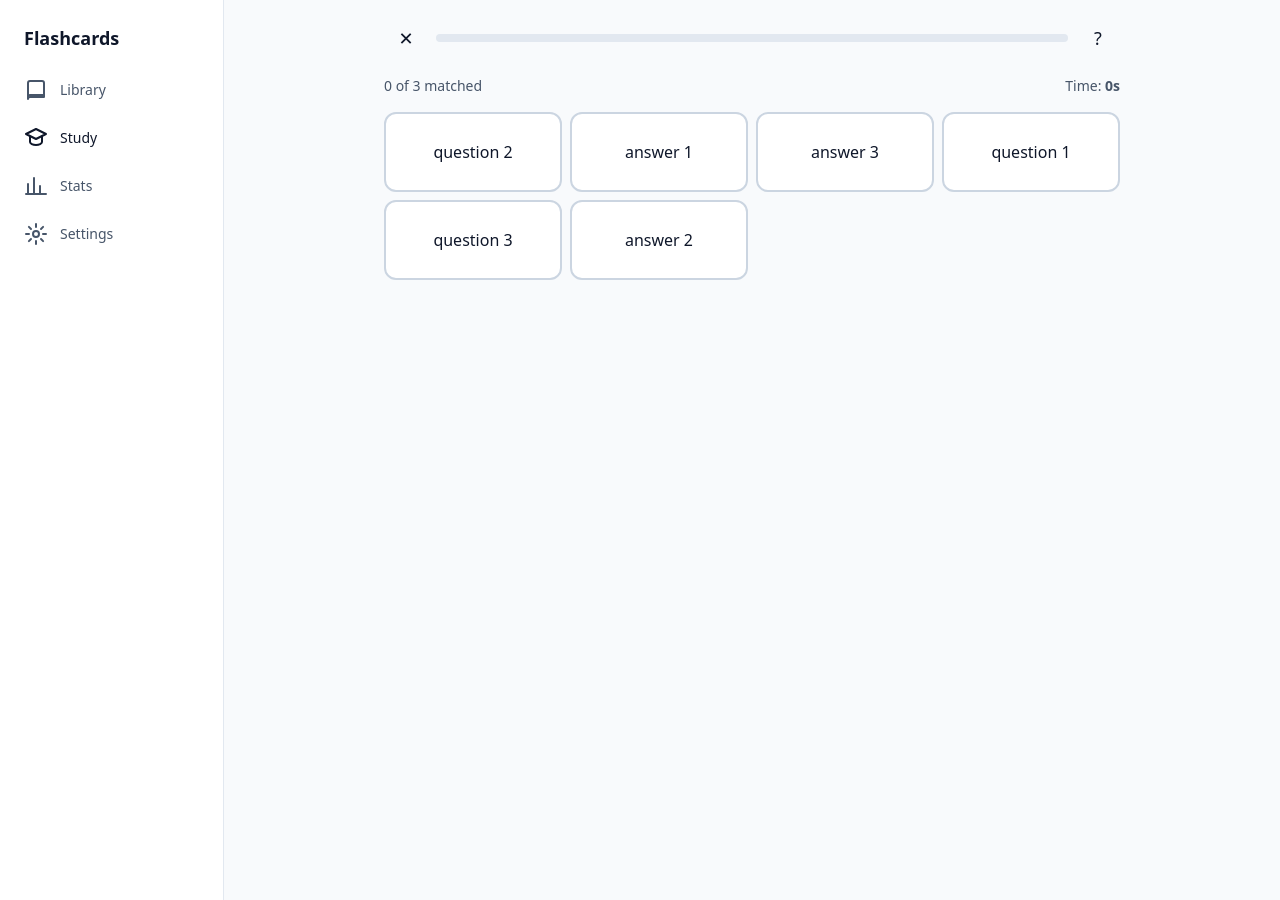
it: match game › only saves a best time when it improves
Expected: the element named "Matching tiles" is shown, [384, 112, 1120, 280]
Click the button "question 1" at [1031, 152], box [942, 112, 1120, 192]
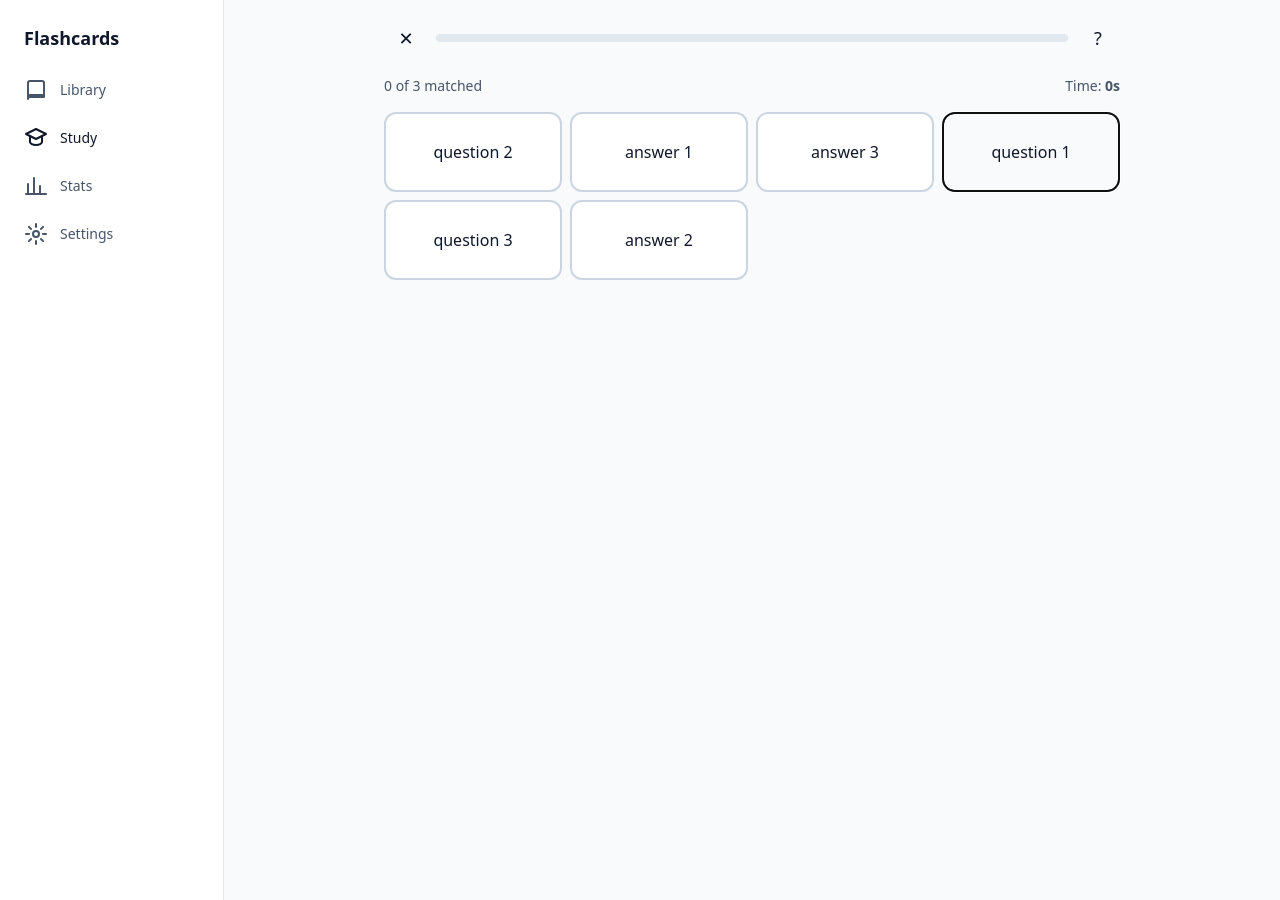
Click the button "answer 1" at [659, 152], box [570, 112, 748, 192]
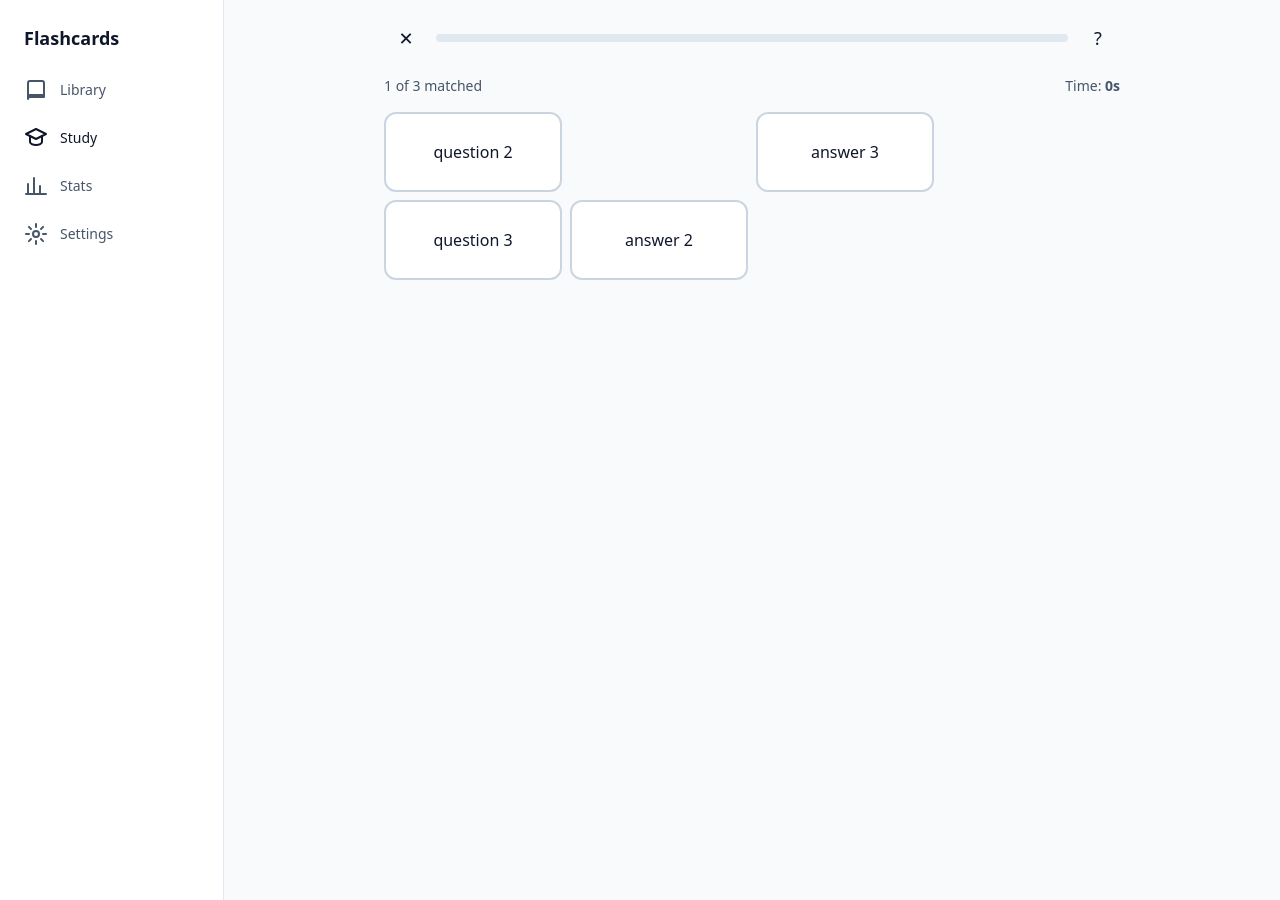
Click the button "question 2" at [473, 152], box [384, 112, 562, 192]
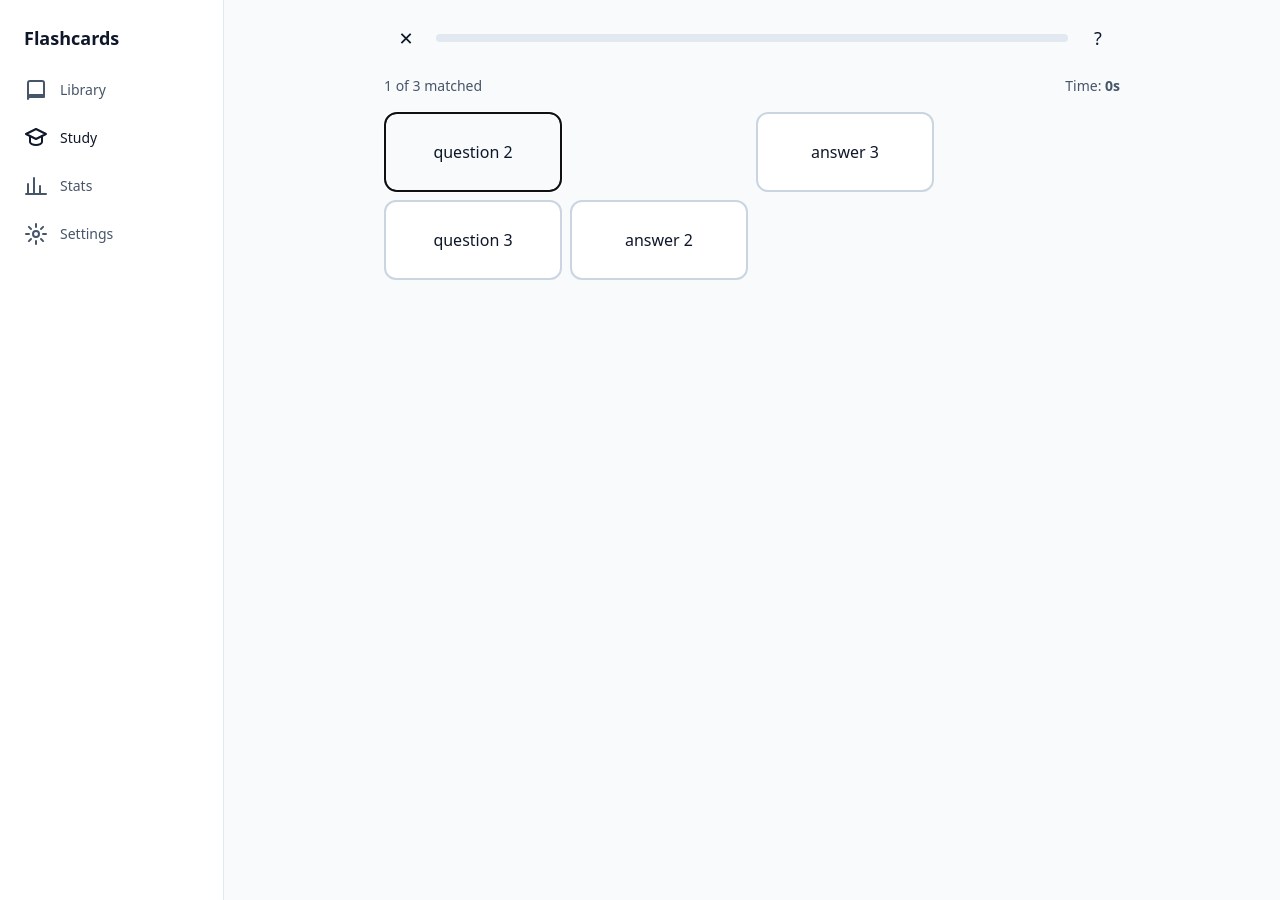
Click the button "answer 2" at [659, 240], box [570, 200, 748, 280]
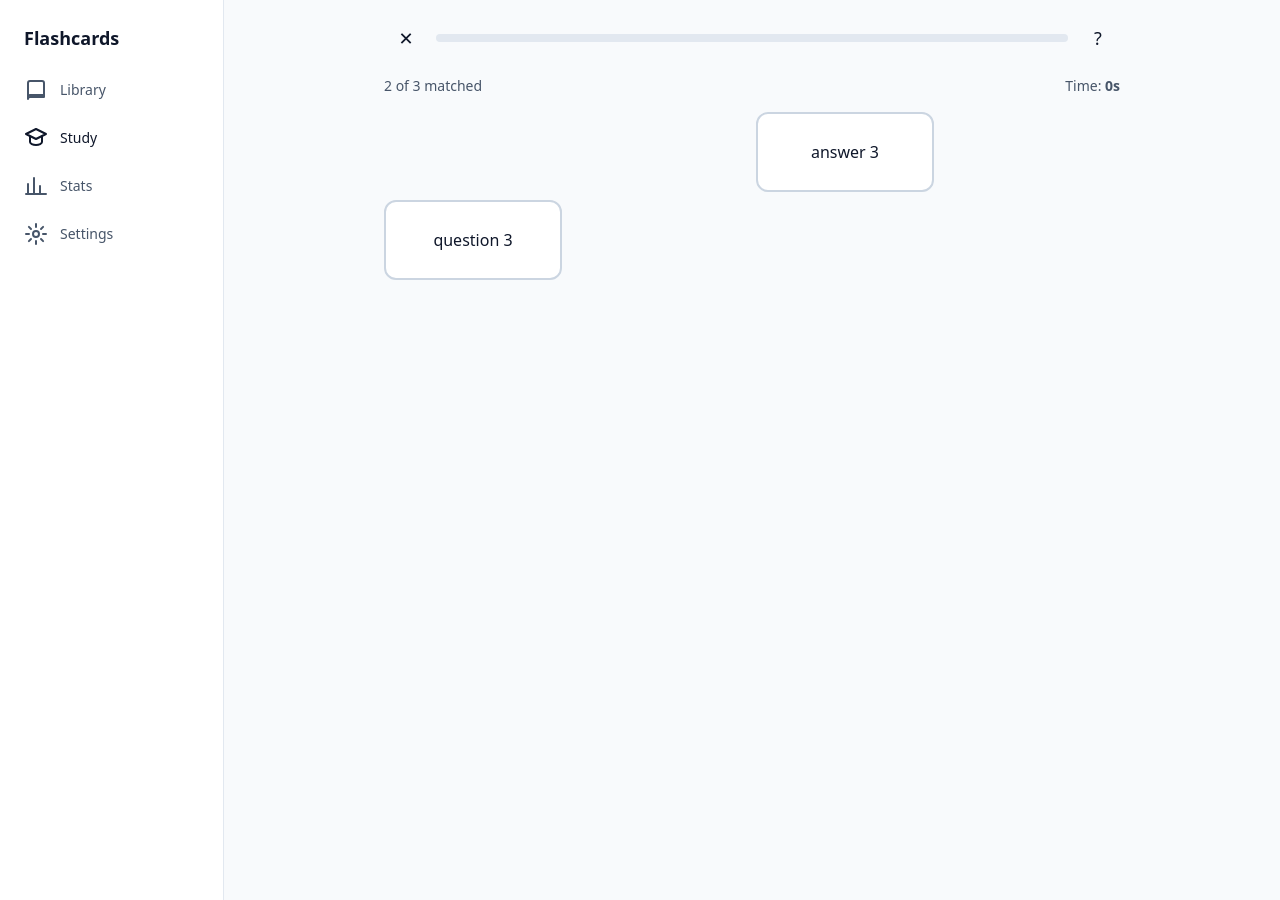
Click the button "question 3" at [473, 240], box [384, 200, 562, 280]
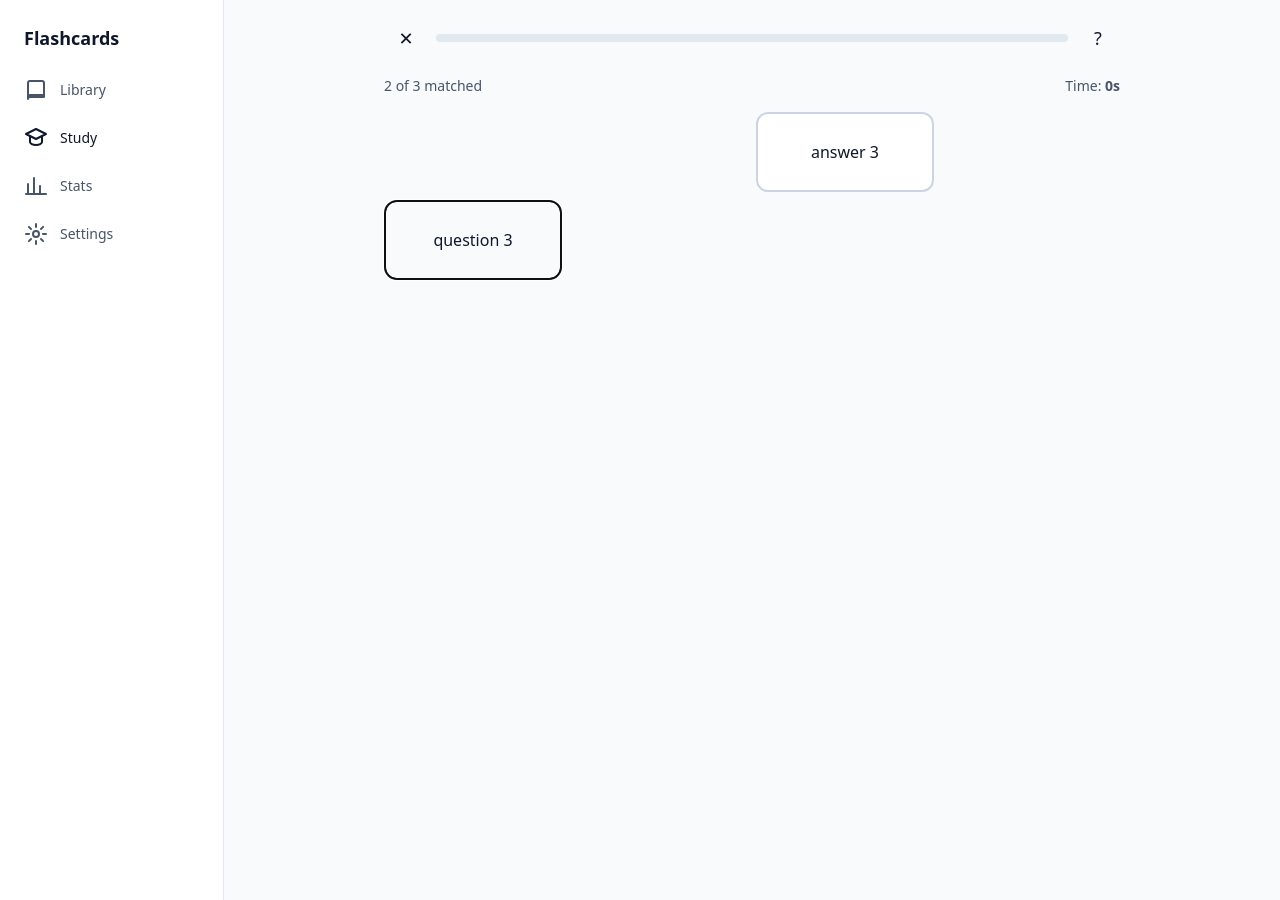
Click the button "answer 3" at [845, 152], box [756, 112, 934, 192]
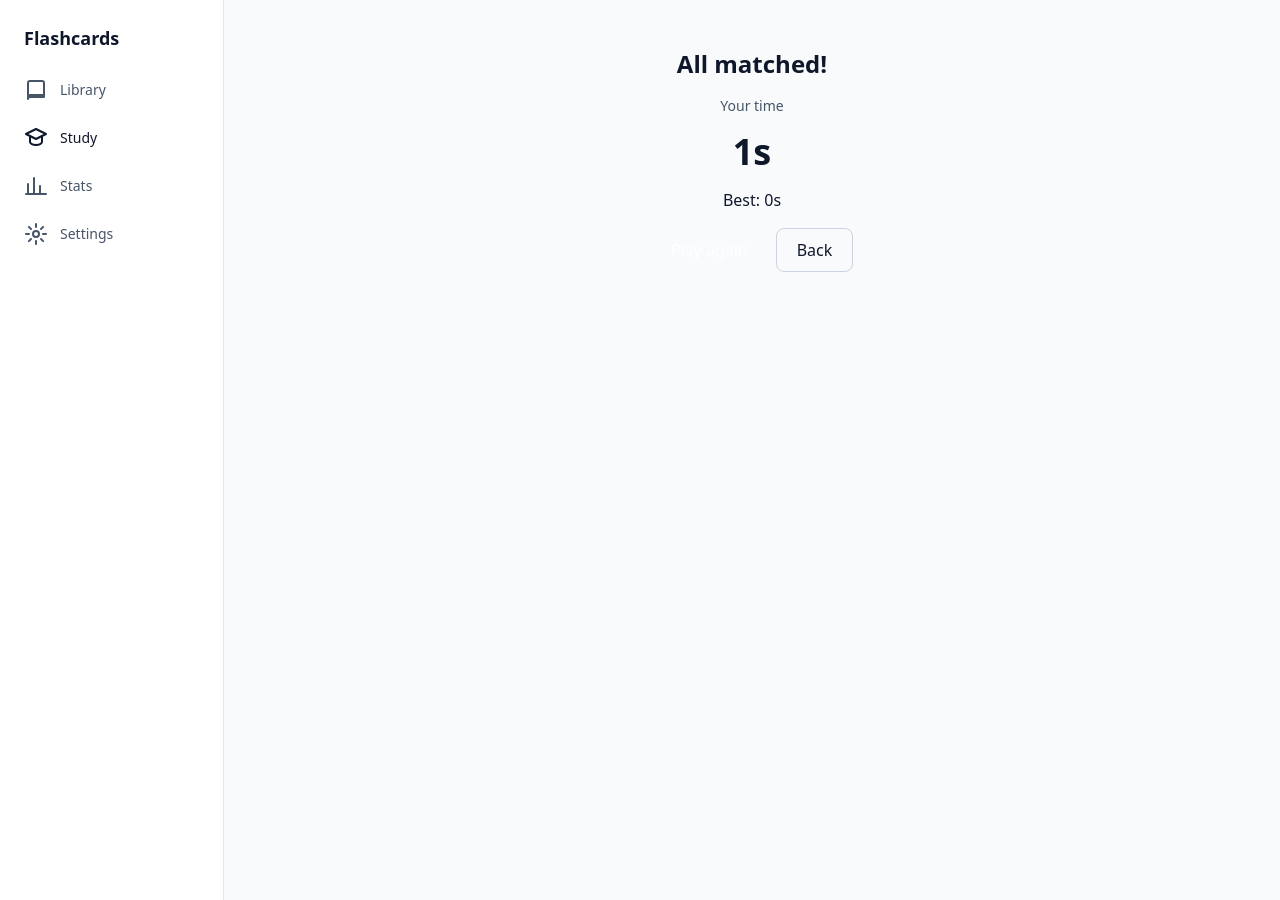
Expected: the heading "All matched!" is shown, [677, 47, 827, 80]
Expected: the text "Best: 0s" is shown, [723, 189, 781, 211]
